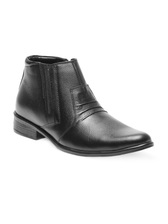shoes: (10, 54, 154, 158)
